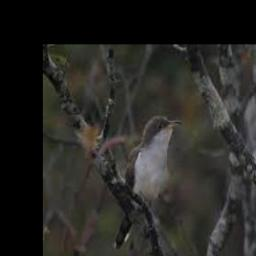Cuckoo: (112, 116, 183, 251)
